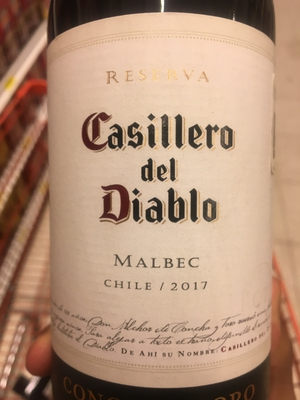casillero del diablo malbec: (43, 9, 281, 400)
